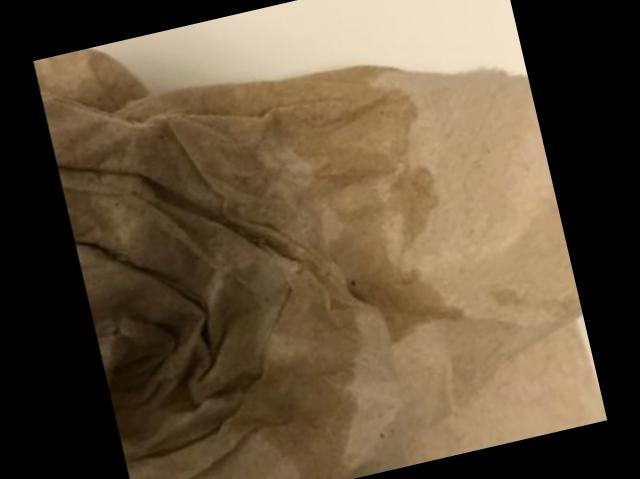cardboard paper: (33, 47, 607, 479)
